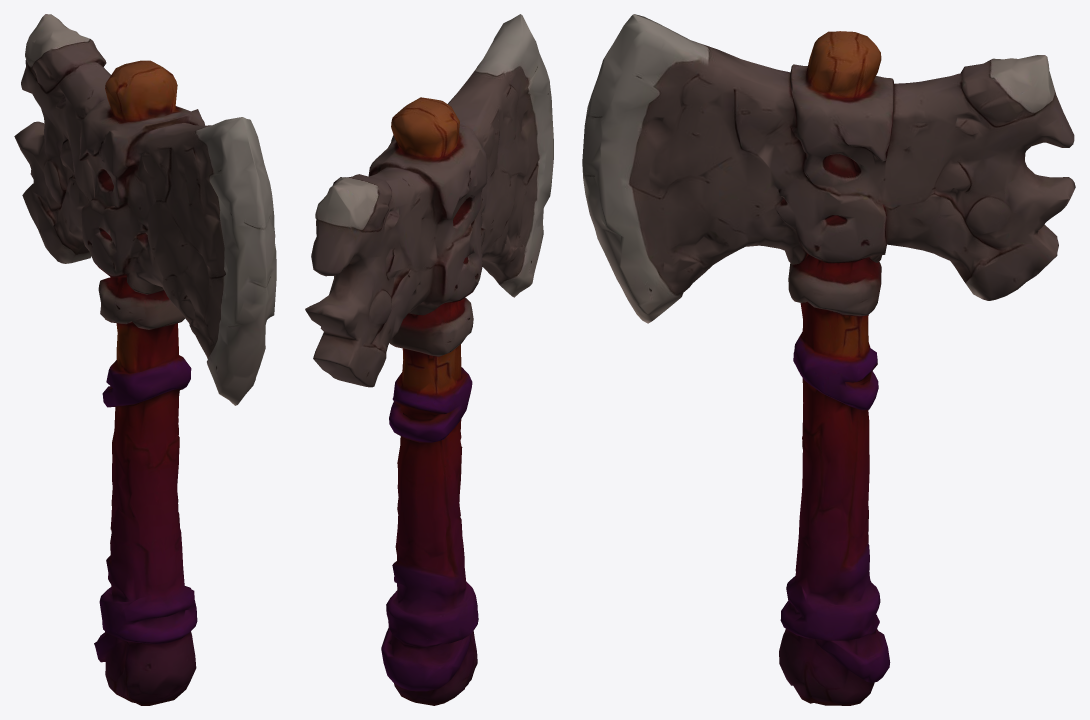
The model's file is axe.glb.
The picture shows the model from 3 angles, left to right: view 1: azimuth 30°, elevation 25°; view 2: azimuth 150°, elevation 25°; view 3: azimuth 270°, elevation 25°; orthographic projection. The views are drawn at different scales.
Parts seen in each view (by area): view 1: tripo_node_bbf25f6b-f669-4cdc-a829-002af0c420ab; view 2: tripo_node_bbf25f6b-f669-4cdc-a829-002af0c420ab; view 3: tripo_node_bbf25f6b-f669-4cdc-a829-002af0c420ab.
Part boxes in pixels (x1,y1,x2,y2): tripo_node_bbf25f6b-f669-4cdc-a829-002af0c420ab: [14, 14, 276, 705]; tripo_node_bbf25f6b-f669-4cdc-a829-002af0c420ab: [305, 14, 553, 705]; tripo_node_bbf25f6b-f669-4cdc-a829-002af0c420ab: [582, 14, 1075, 705].
Bounding box in the file's own units: 0.1523 × 1 × 0.6537.
Materials: 1 (1 with a texture image).
